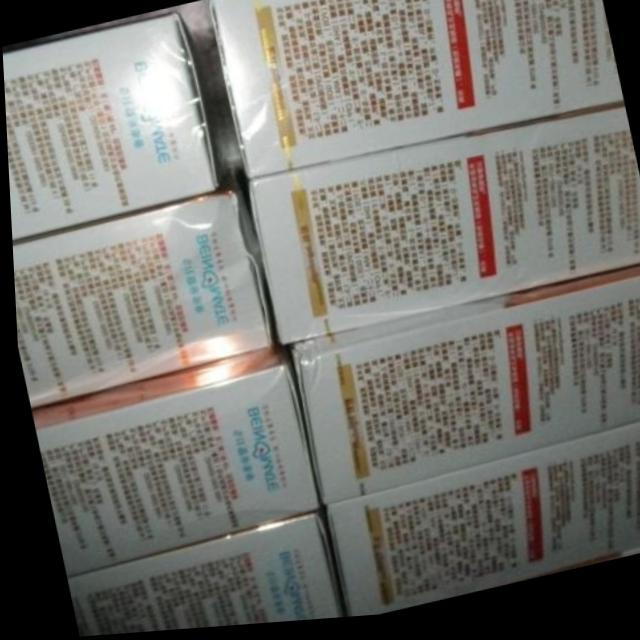box: (248, 115, 640, 352), (281, 276, 640, 511), (206, 0, 623, 184), (29, 352, 316, 580), (322, 431, 640, 622), (10, 193, 267, 407), (2, 12, 219, 245), (64, 514, 334, 637)
